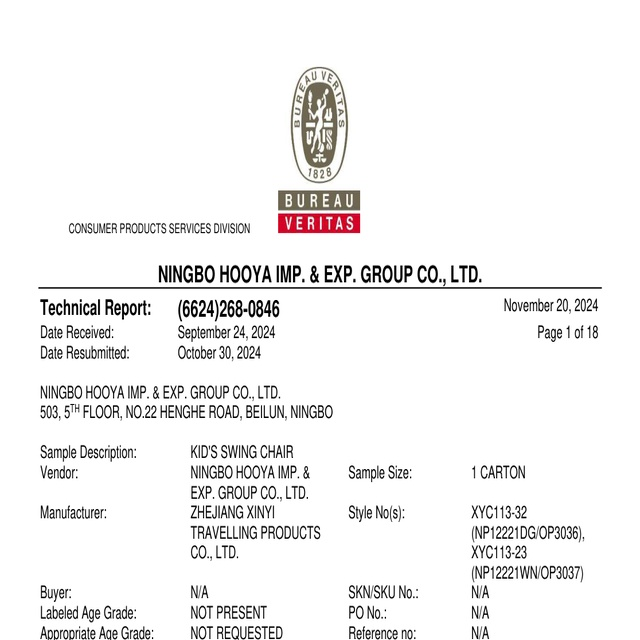bureau_veritas: (277, 66, 363, 238)
